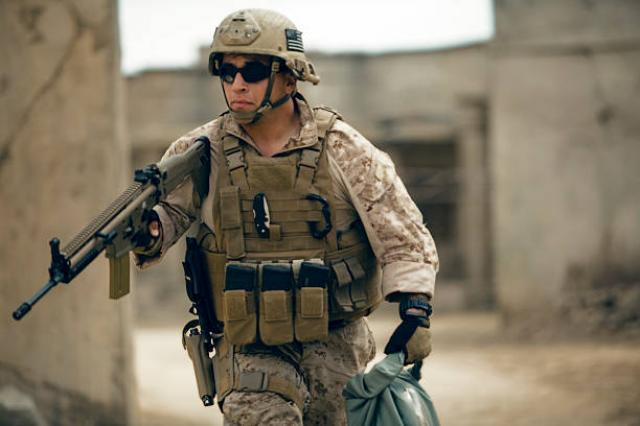other: (133, 9, 431, 424)
